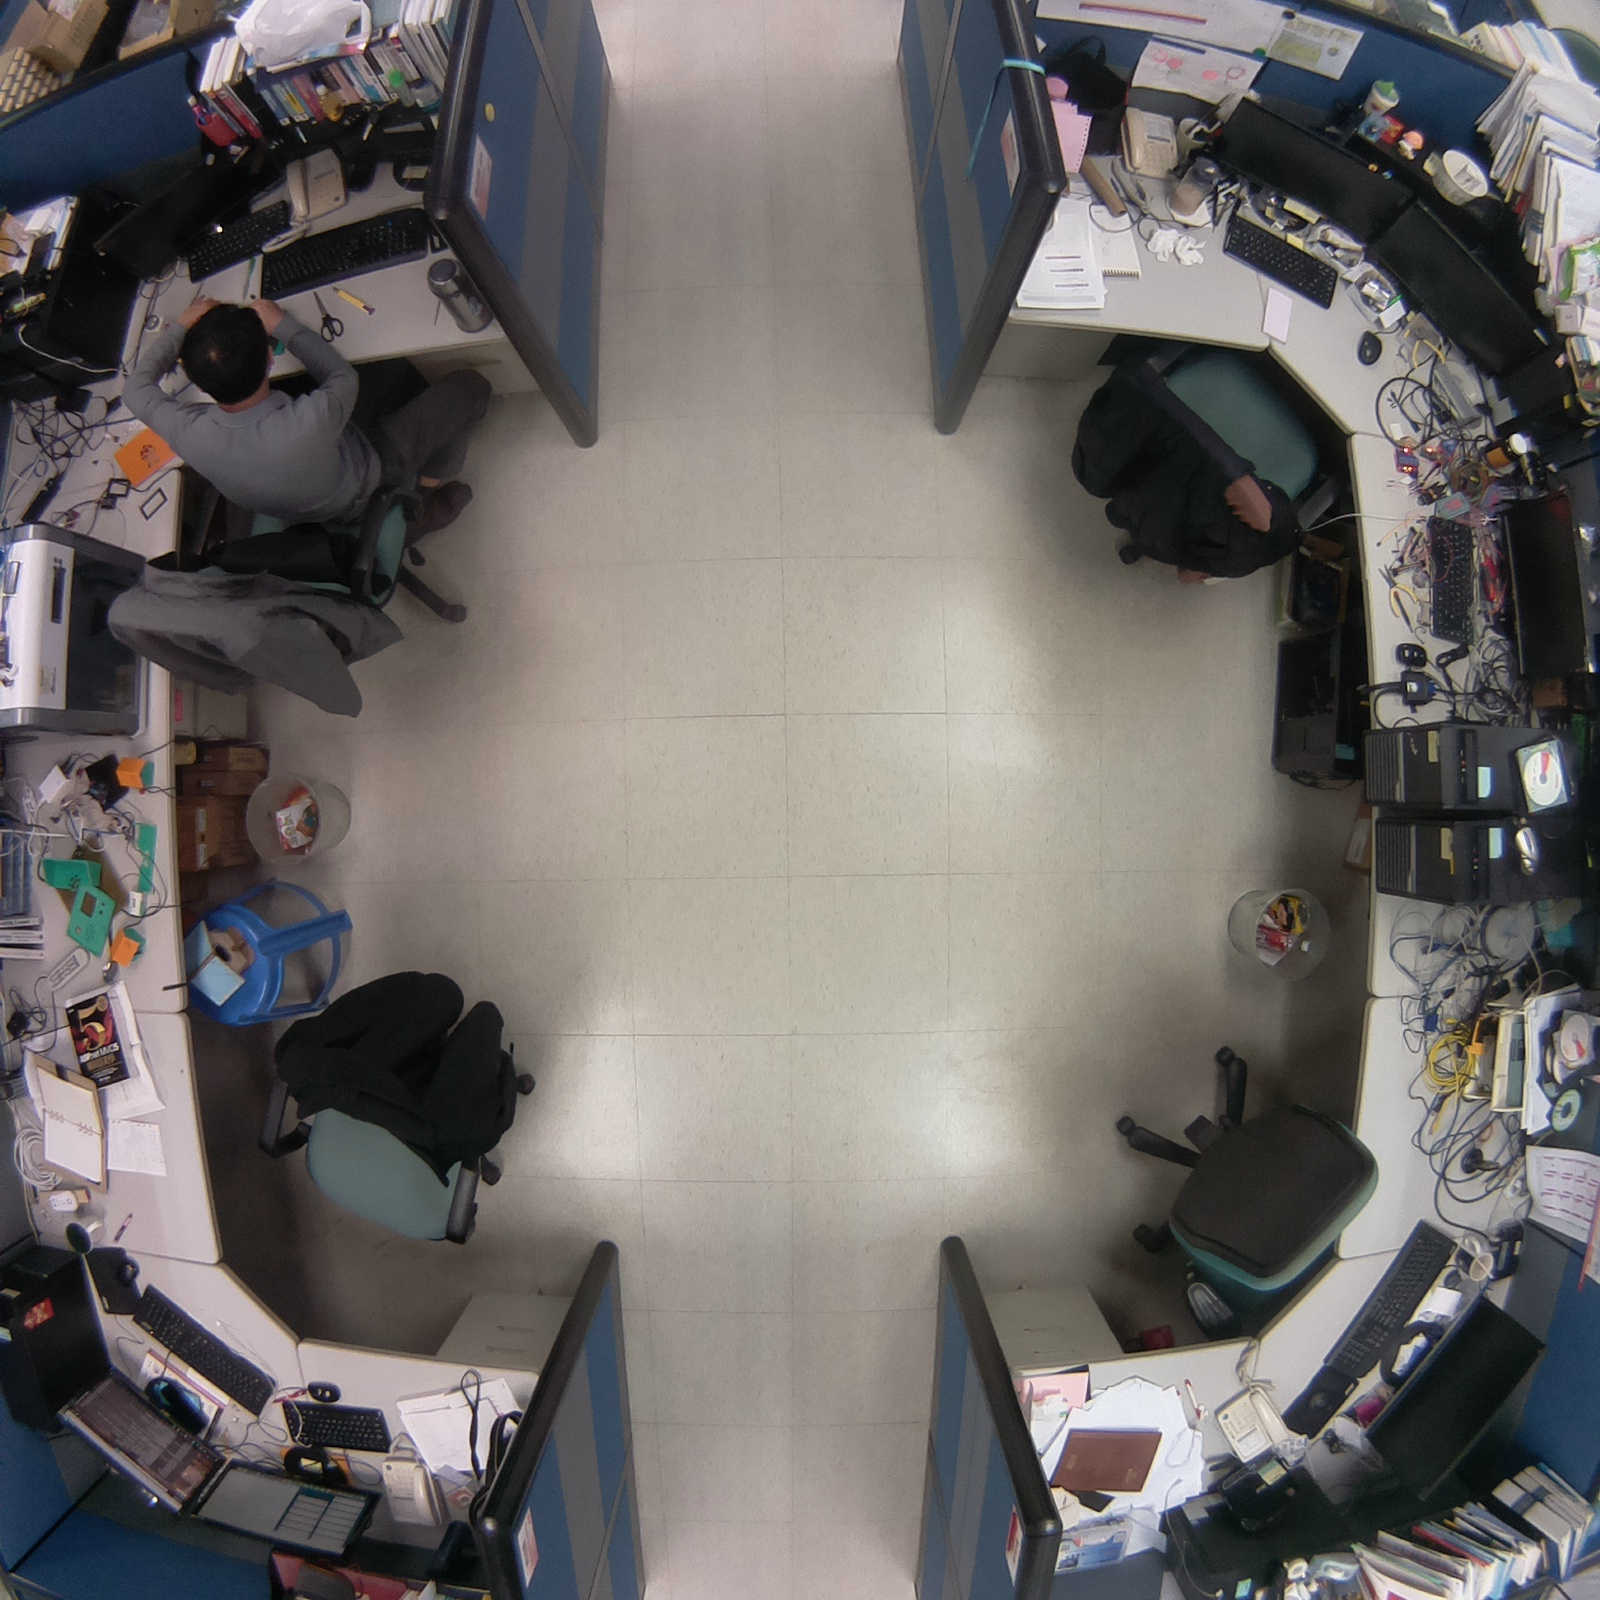chair: (230, 955, 549, 1269), (1090, 1037, 1388, 1342), (1053, 308, 1352, 604)
sitting: (86, 258, 517, 740)
